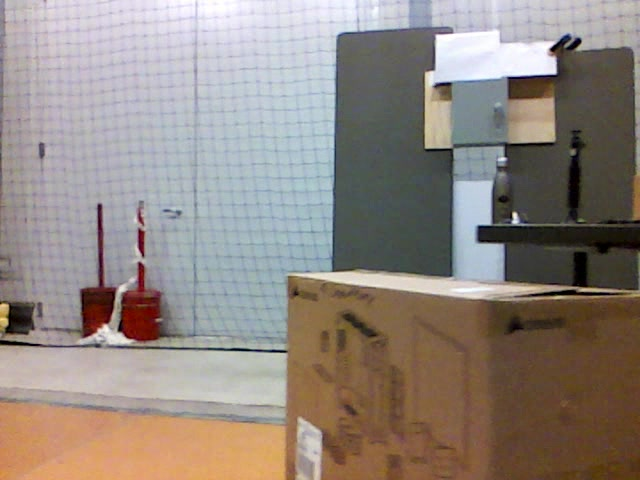box: (289, 268, 640, 477)
